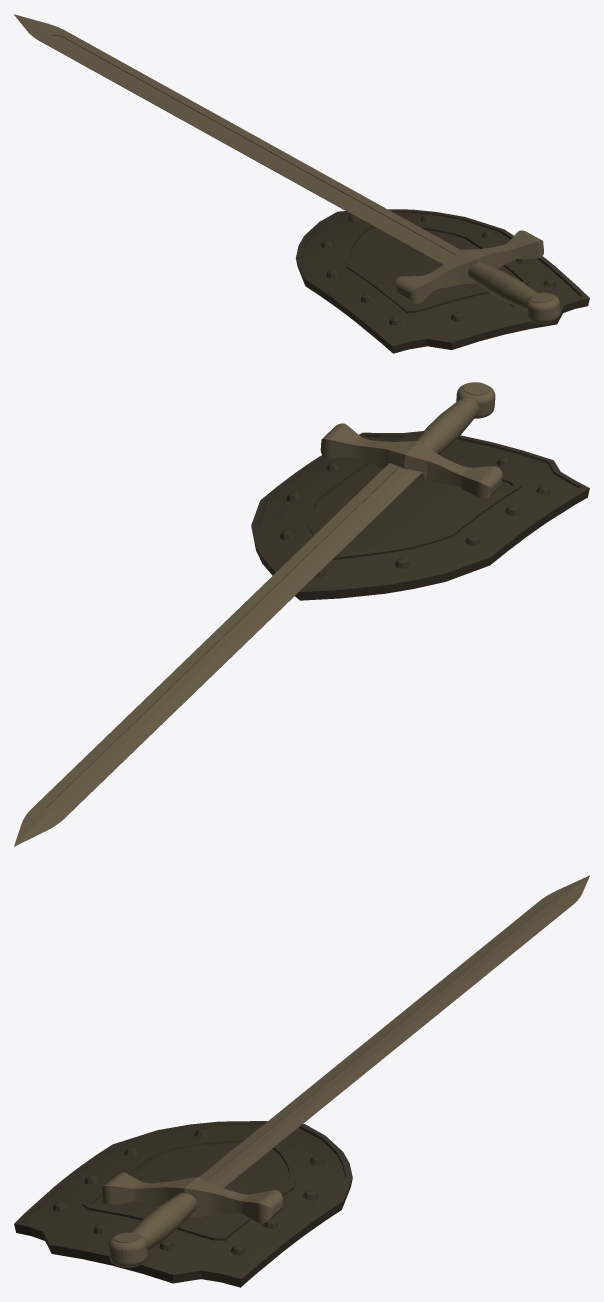
The model's file is schwert-schild.glb.
3 views of the same model, one above another, from view 1: azimuth 30°, elevation 25°; view 2: azimuth 150°, elevation 25°; view 3: azimuth 330°, elevation 25° (orthographic). The views are drawn at different scales.
Parts seen in each view (by area): view 1: Schild, Schwert; view 2: Schild, Schwert; view 3: Schild, Schwert.
Part boxes in pixels (x1,y1,x2,y2): Schild: (295, 209, 589, 353); Schwert: (14, 14, 560, 323); Schild: (251, 431, 589, 600); Schwert: (14, 382, 502, 846); Schild: (14, 1121, 352, 1287); Schwert: (101, 875, 589, 1267).
Size of the model in its own units: 3.32 by 0.7609 by 13.57.
